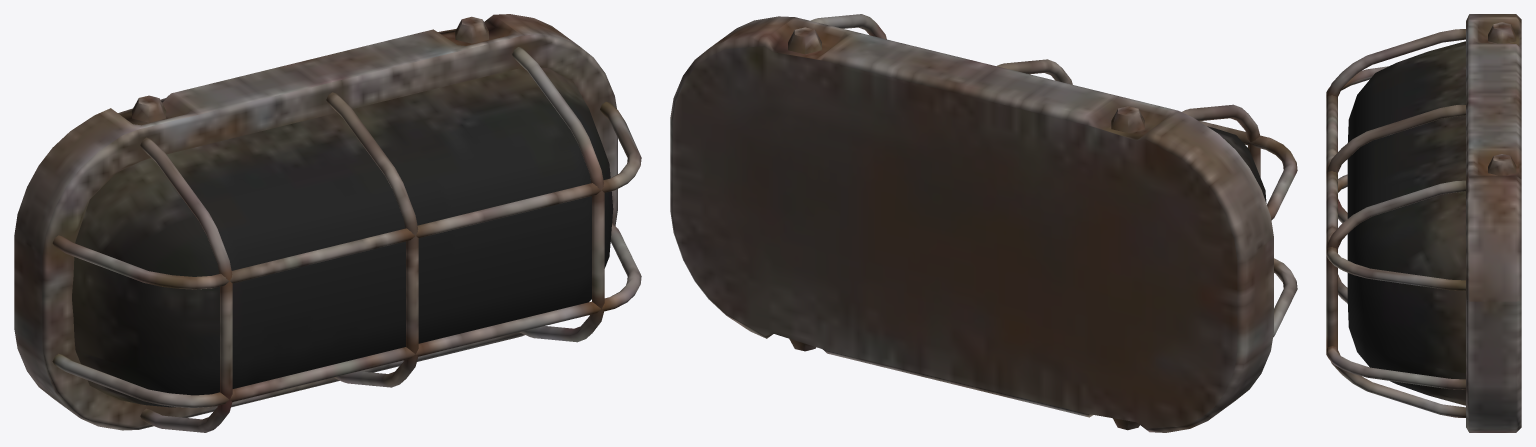
File: industrial.wall.lamp.green.deployed.glb
3 renders of one model, left to right at view 1: azimuth 30°, elevation 25°; view 2: azimuth 150°, elevation 25°; view 3: azimuth 270°, elevation 25°, orthographic. The views are drawn at different scales.
Visible parts, largest first — view 1: industrial.wall.lamp_LOD0; view 2: industrial.wall.lamp_LOD0; view 3: industrial.wall.lamp_LOD0.
Part boxes in pixels (box(x1,y1,x2,y2)): industrial.wall.lamp_LOD0: box(14, 14, 641, 432); industrial.wall.lamp_LOD0: box(670, 14, 1297, 432); industrial.wall.lamp_LOD0: box(1326, 14, 1521, 432).
Size of the model in its own units: 0.4 by 0.2086 by 0.1405.
1 material, 1 textured.
